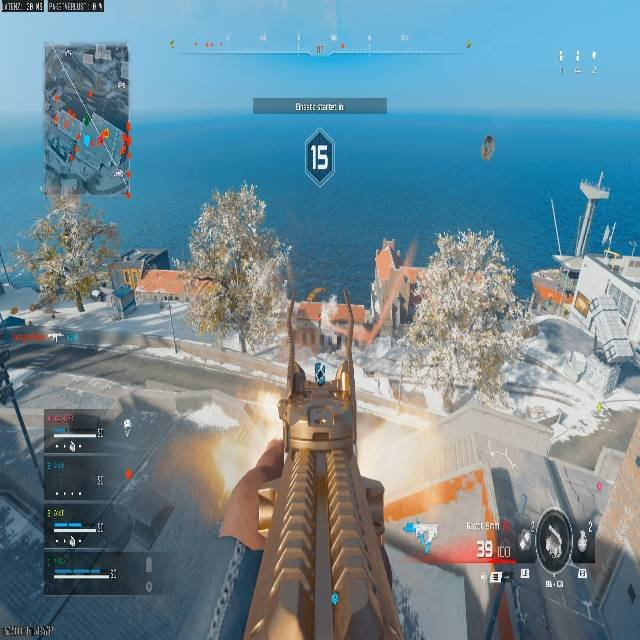player: (409, 280, 423, 319), (315, 361, 325, 385)
